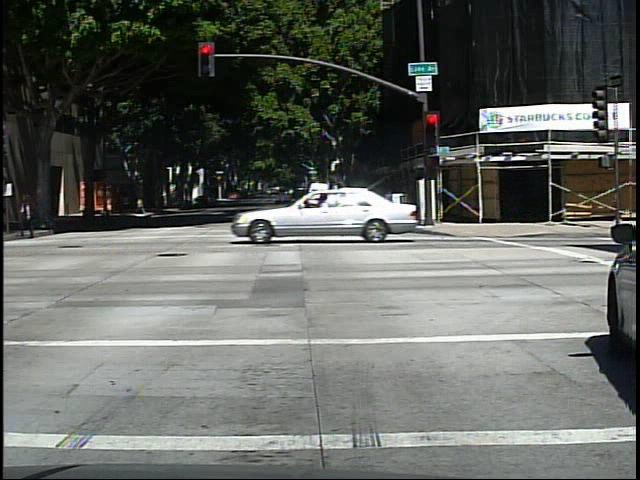person: (15, 189, 44, 242)
